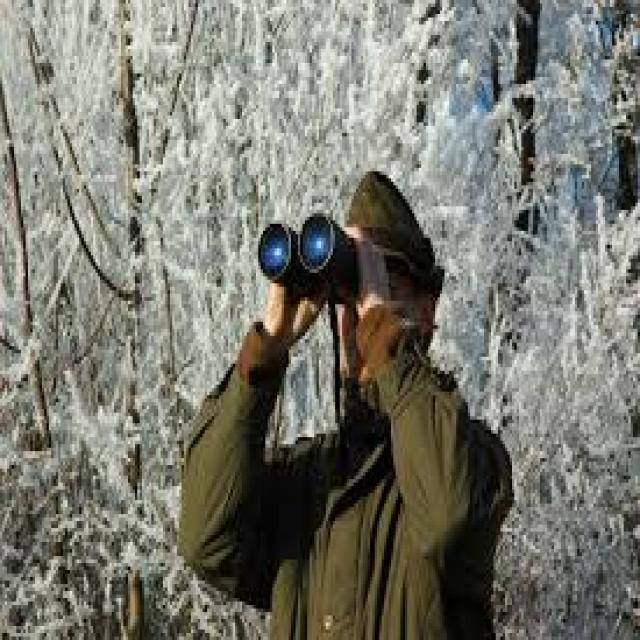Binocular: (250, 199, 372, 304)
